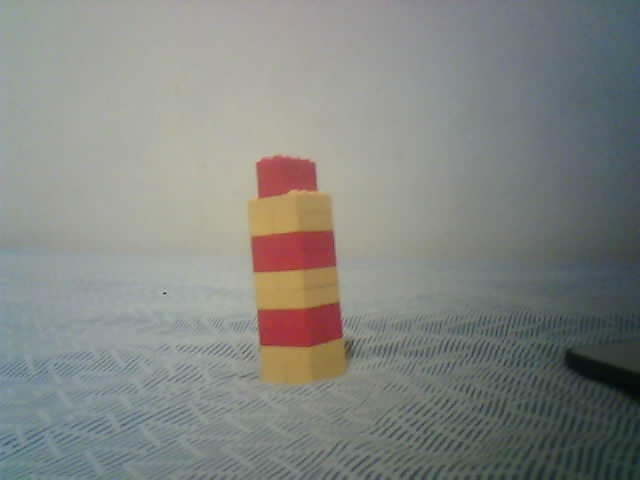lego: (245, 155, 346, 389)
